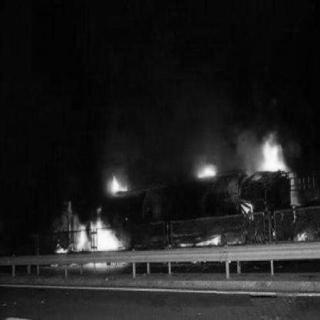Fire: (58, 203, 124, 254)
